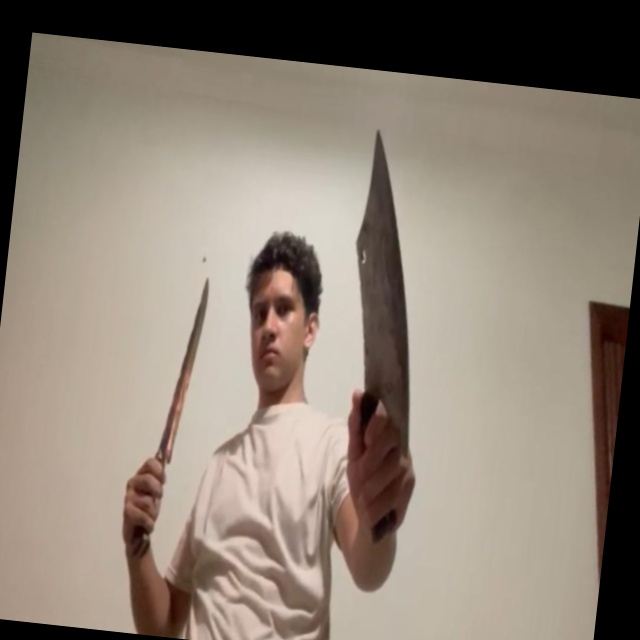Sharp-Object: (334, 129, 443, 451), (159, 278, 210, 461)
